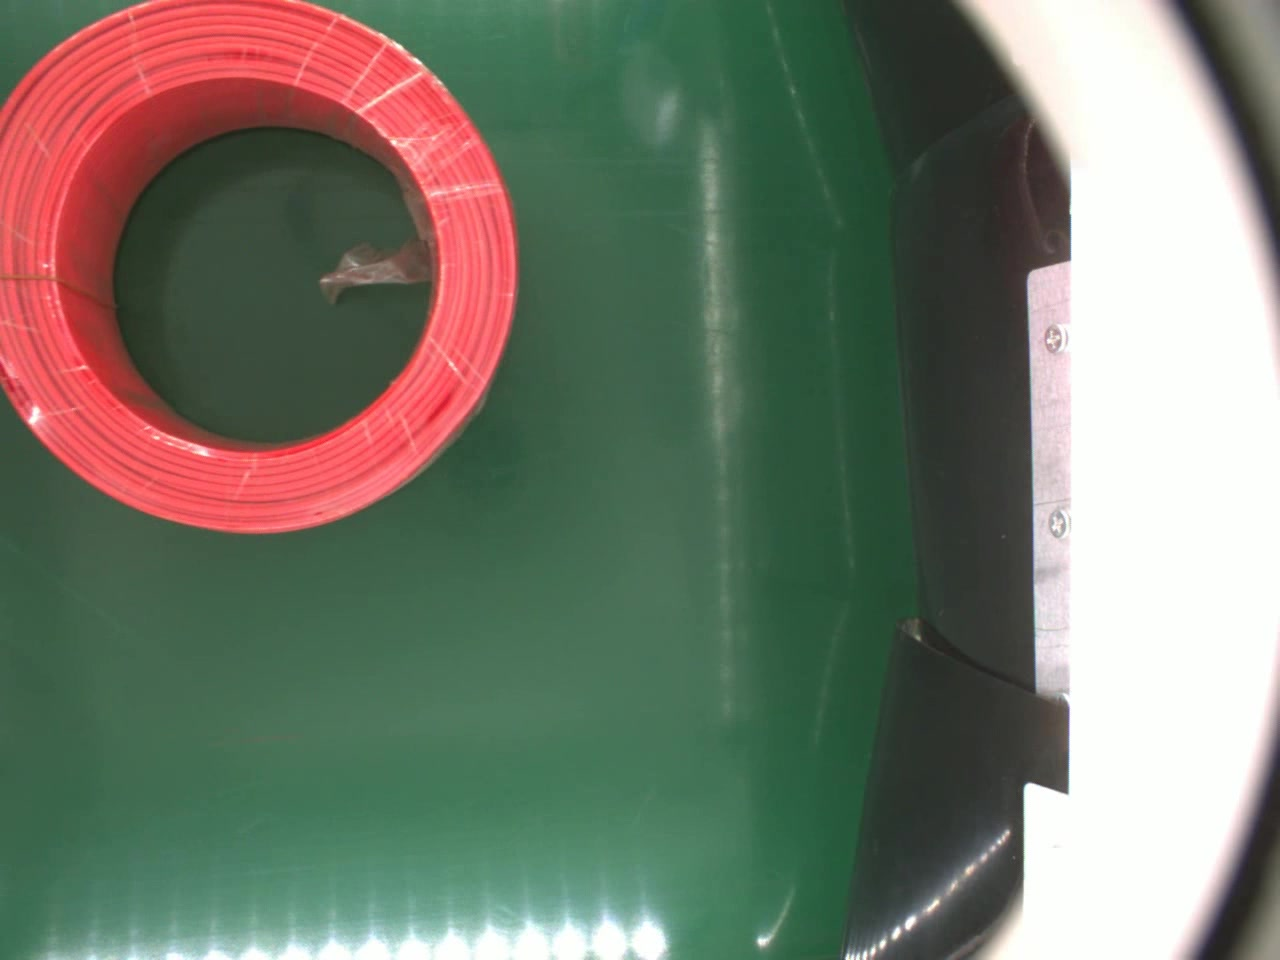red: (0, 0, 520, 537)
